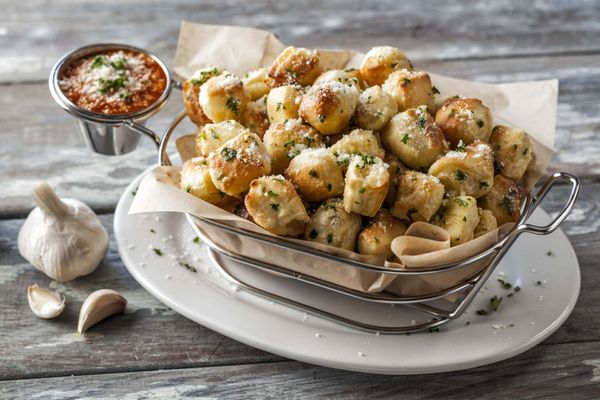salad: (294, 169, 581, 334), (388, 169, 581, 332)
sushi: (49, 41, 172, 156)
